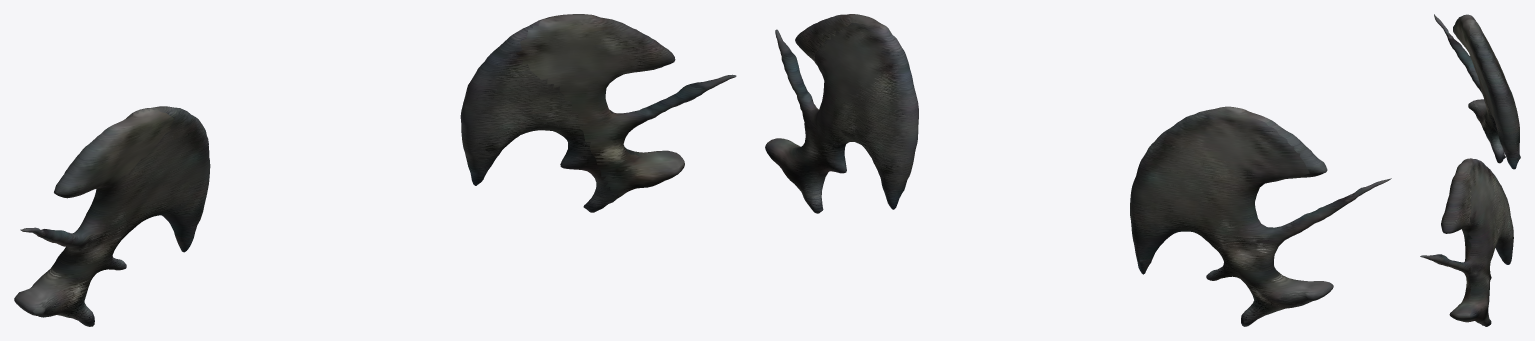
The model's file is kfl-2183.glb.
The picture shows the model from 3 angles, left to right: view 1: azimuth 30°, elevation 25°; view 2: azimuth 150°, elevation 25°; view 3: azimuth 270°, elevation 25°; orthographic projection. The views are drawn at different scales.
Parts seen in each view (by area): view 1: geometry_0; view 2: geometry_0; view 3: geometry_0.
Boxes of the visible parts, x1,y1,x2,y2 form: geometry_0: (14,14,736,326); geometry_0: (765,14,1391,326); geometry_0: (1420,14,1520,326).
Size of the model in its own units: 0.9863 by 0.2981 by 0.1789.
Materials: 1 (1 with a texture image).
